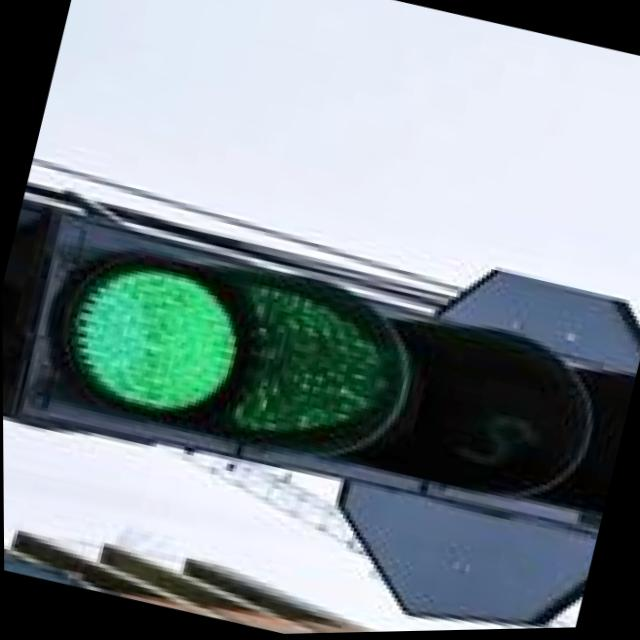green_light: (1, 106, 457, 575)
